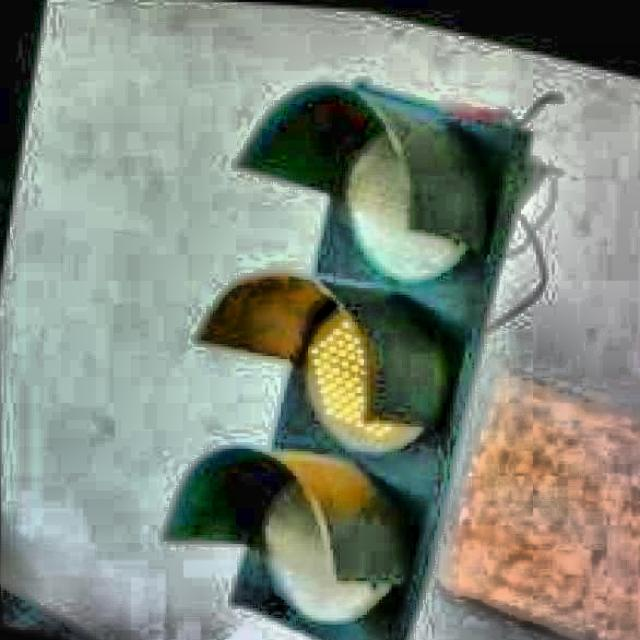yellow: (228, 69, 511, 640)
